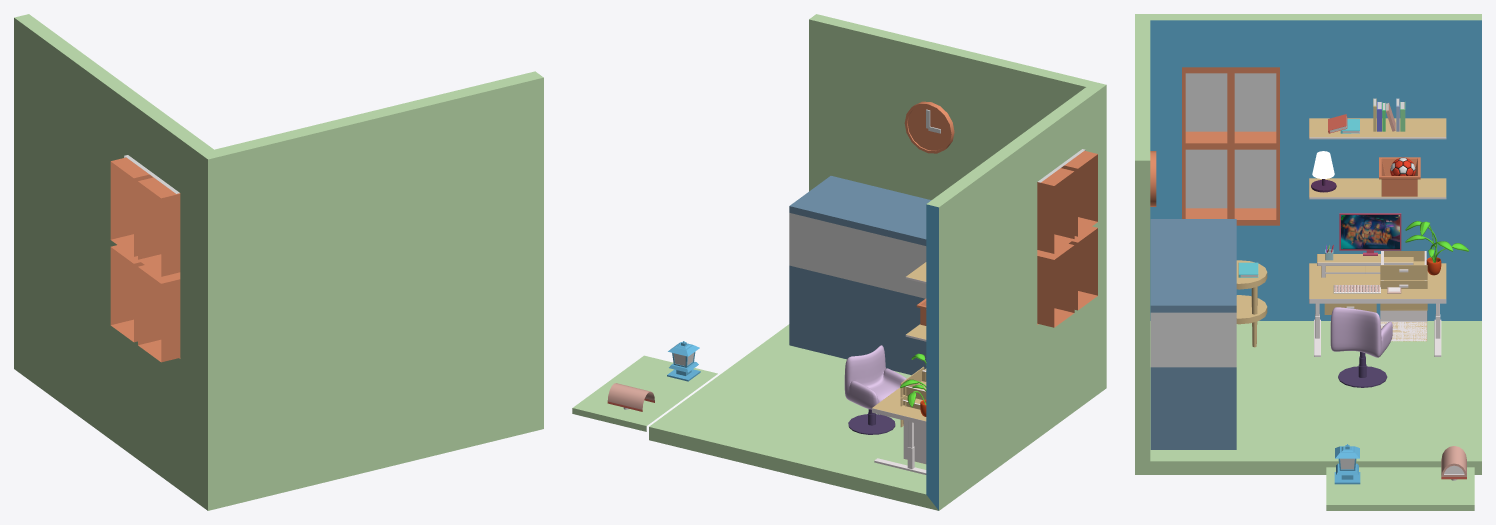
Rendered from Finale.glb.
3 views of the same model, side by side, from view 1: azimuth 30°, elevation 25°; view 2: azimuth 150°, elevation 25°; view 3: azimuth 270°, elevation 25° (orthographic). The views are drawn at different scales.
Visible parts, largest first — view 1: Cube.003, Plane; view 2: Cube.003, Cube.013, Plane, Cube.014, Cube.016, Cube.012, Cylinder.006, table top, Cylinder.007, Cylinder.002, Plane.010, table top.001 (+1 smaller); view 3: Cube.003, Cube.013, Cube.011, Cube.016, Plane, Cube.014, table top, Cube.012, table top.006, table top.005, screen, table drawer.001 (+13 smaller).
Part boxes in pixels (x1=…): Cube.003: x1=14, y1=14, x2=543, y2=510; Plane: x1=110, y1=157, x2=180, y2=362; Cube.003: x1=649, y1=14, x2=1106, y2=510; Cube.013: x1=789, y1=176, x2=931, y2=375; Plane: x1=1037, y1=150, x2=1097, y2=327; Cube.014: x1=789, y1=213, x2=926, y2=298; Cube.016: x1=572, y1=355, x2=717, y2=431; Cube.012: x1=844, y1=345, x2=906, y2=409; Cylinder.006: x1=904, y1=101, x2=954, y2=153; table top: x1=872, y1=368, x2=926, y2=425; Cylinder.007: x1=607, y1=383, x2=654, y2=411; Cylinder.002: x1=848, y1=409, x2=895, y2=434; Plane.010: x1=667, y1=341, x2=700, y2=381; table top.001: x1=903, y1=420, x2=926, y2=464; Cube.003: x1=1135, y1=14, x2=1481, y2=474; Cube.013: x1=1150, y1=219, x2=1236, y2=449; Cube.011: x1=1185, y1=73, x2=1276, y2=208; Cube.016: x1=1326, y1=467, x2=1474, y2=510; Plane: x1=1182, y1=67, x2=1279, y2=225; Cube.014: x1=1150, y1=312, x2=1236, y2=367; table top: x1=1309, y1=263, x2=1446, y2=303; Cube.012: x1=1330, y1=307, x2=1392, y2=357; table top.006: x1=1309, y1=118, x2=1446, y2=139; table top.005: x1=1309, y1=178, x2=1446, y2=199; screen: x1=1341, y1=215, x2=1399, y2=249; table drawer.001: x1=1380, y1=251, x2=1427, y2=310.
Size of the model in its own units: 36.25 by 27.25 by 27.25.
Materials: 42 (1 with a texture image).
